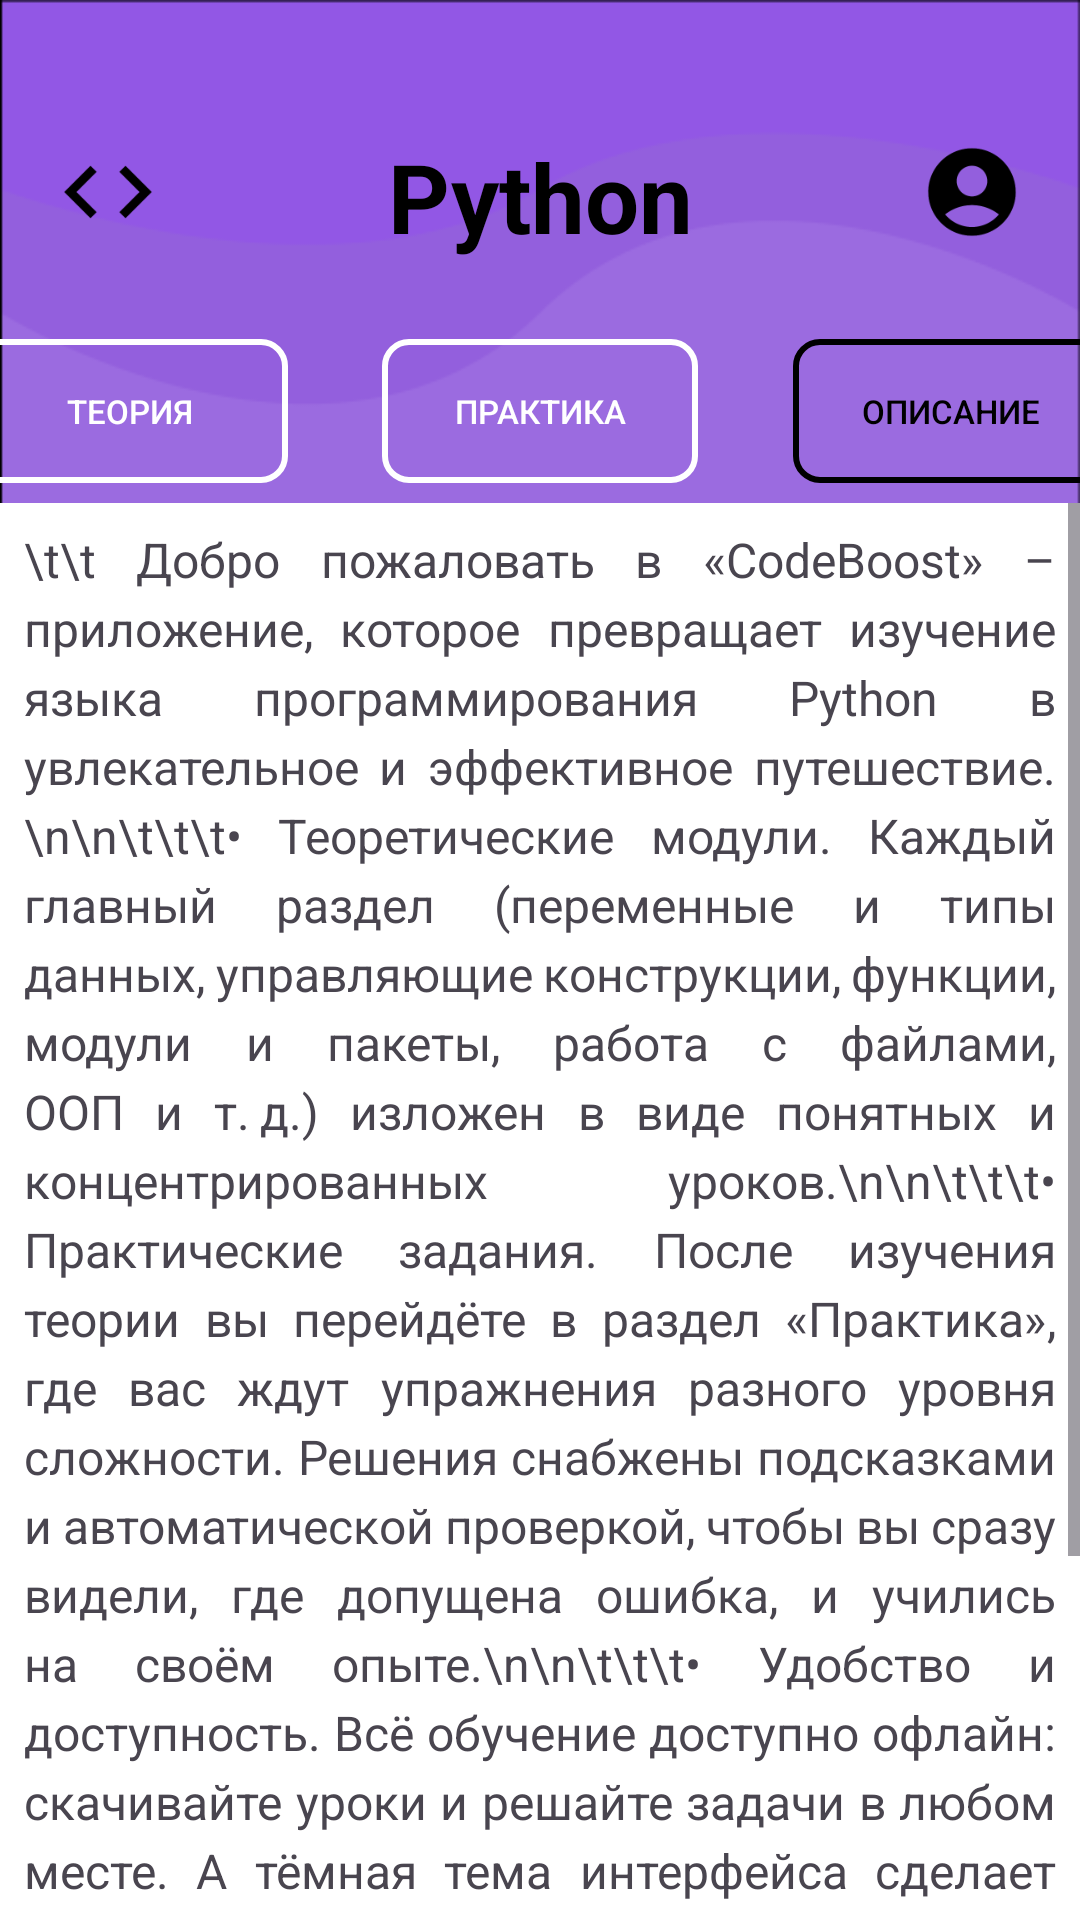

Icons on this 1080w x 1920h Android screen, each with its box as [x1,y1,x2,y2]:
code: [64,166,152,219]
profile: [928,148,1016,236]
